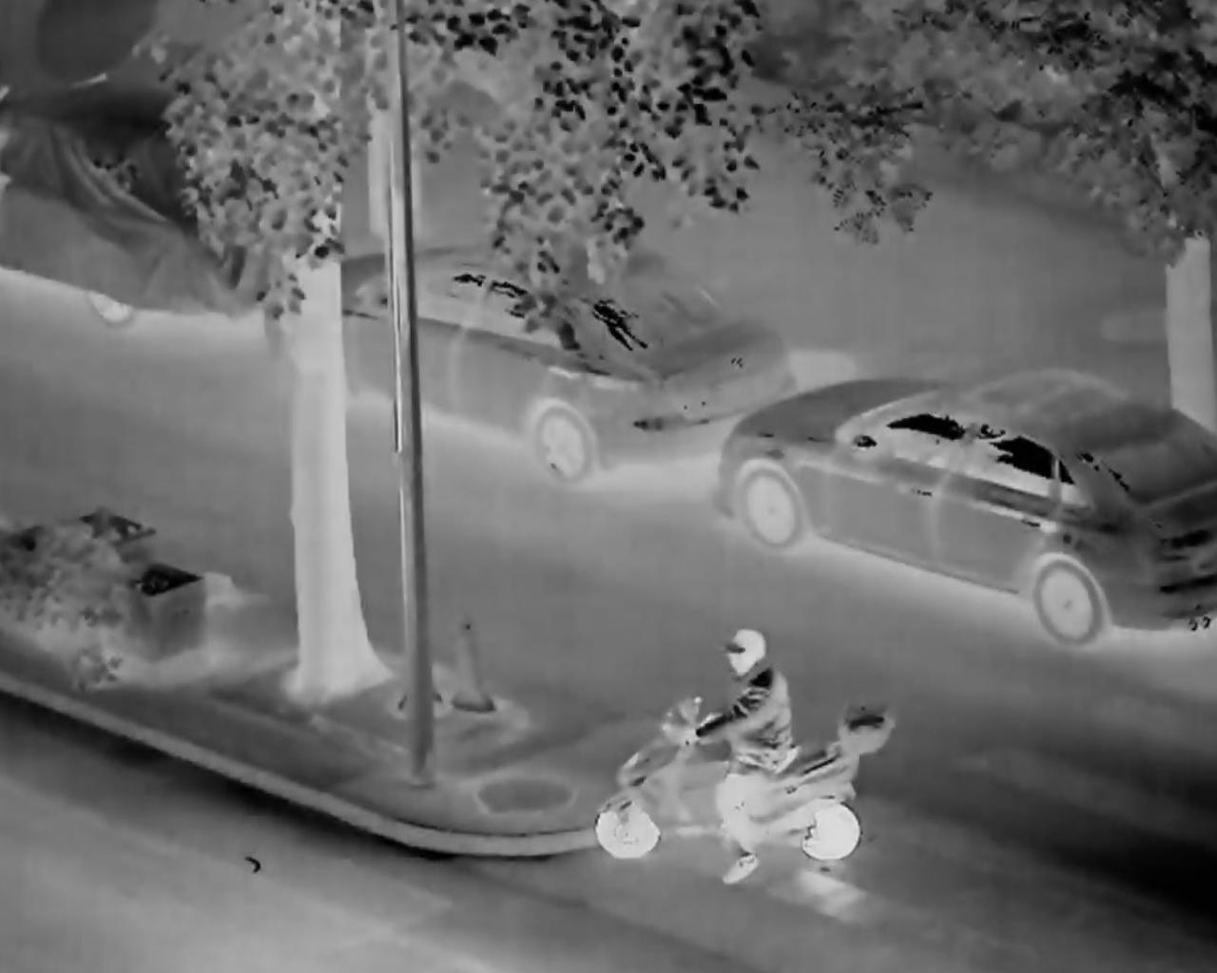person: (703, 630, 827, 880)
